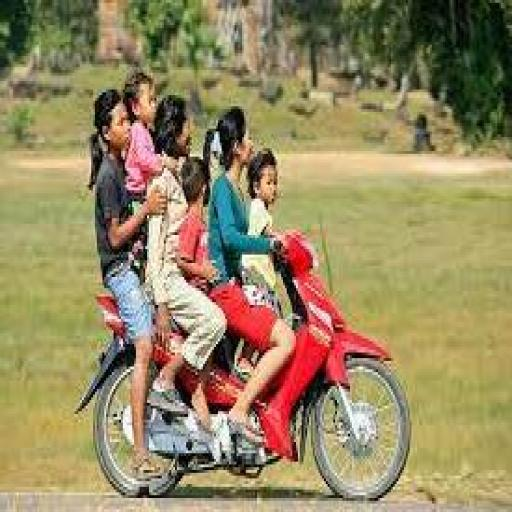overloading: (73, 224, 413, 501)
